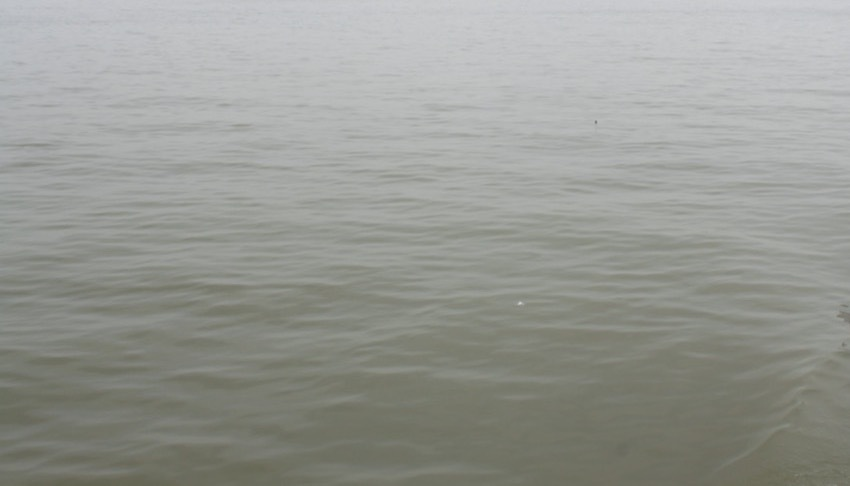plastic: (509, 293, 533, 318), (591, 117, 603, 128)
